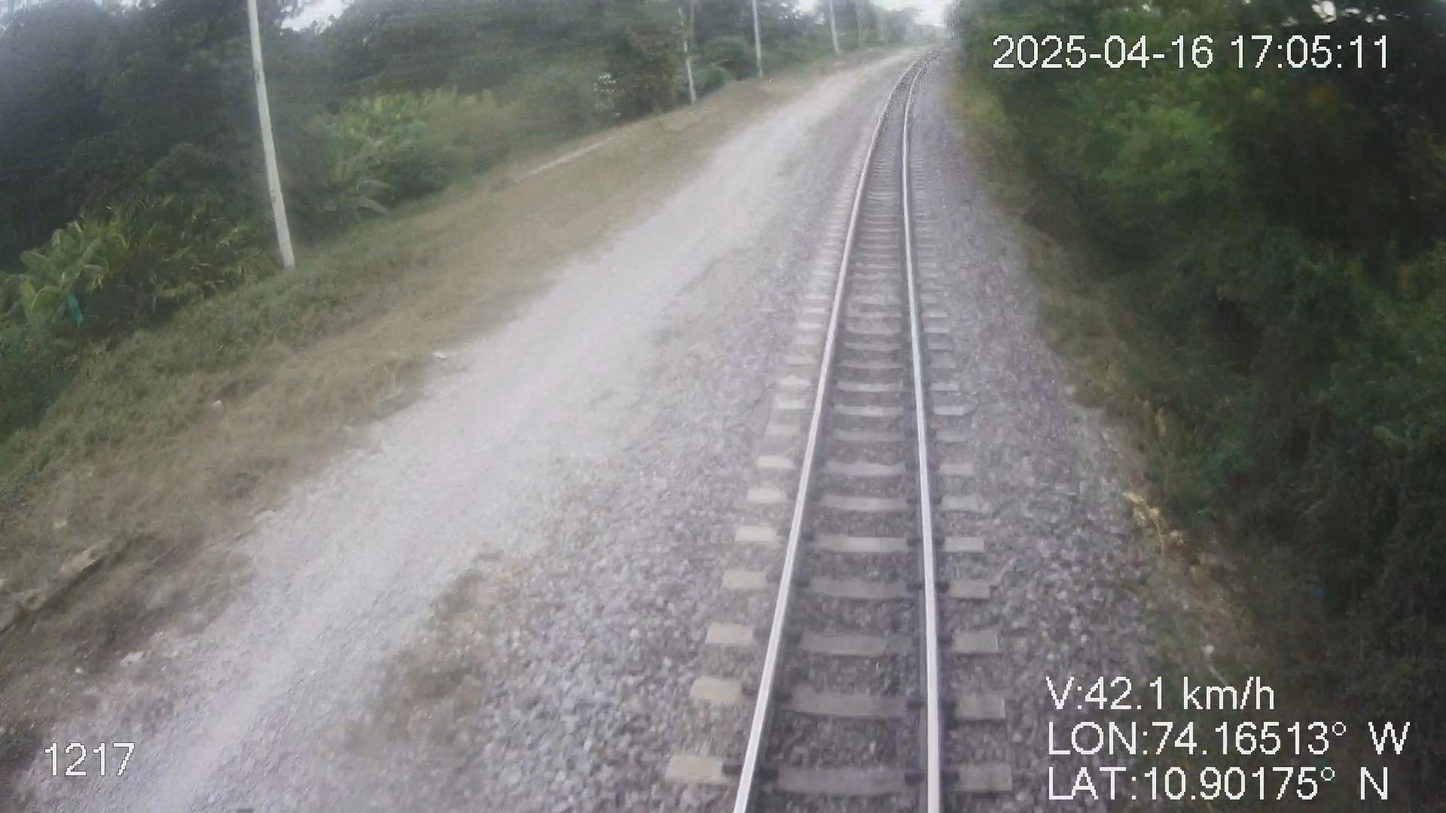Pasto: (0, 0, 922, 812), (947, 0, 1445, 812)
